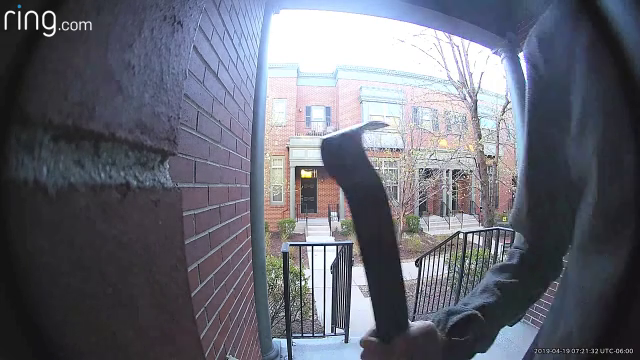crowbar: (317, 115, 433, 358)
